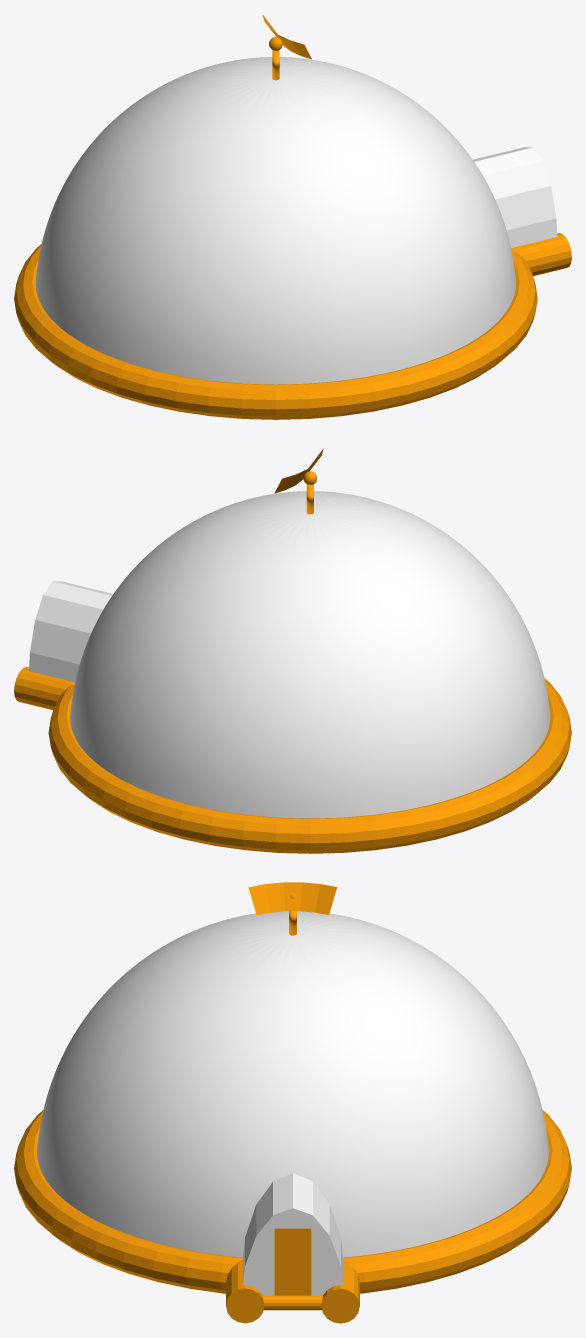
The model's file is Space_House.fbx.
3 renders of one model, top to bottom at view 1: azimuth 30°, elevation 25°; view 2: azimuth 150°, elevation 25°; view 3: azimuth 270°, elevation 25°, orthographic. The views are drawn at different scales.
Visible parts, largest first — view 1: Sphere, Torus, Cylinder, Cylinder.002; view 2: Sphere, Torus, Cylinder, Cylinder.003; view 3: Sphere, Torus, Cylinder, Plane.001, Plane.002, Cylinder.003, Cylinder.002, Cylinder.004.
Boxes of the visible parts, x1,y1,x2,y2 form: Sphere: [35, 57, 516, 384]; Torus: [14, 244, 537, 419]; Cylinder: [473, 147, 557, 247]; Cylinder.002: [511, 233, 571, 276]; Sphere: [70, 491, 550, 818]; Torus: [48, 678, 571, 853]; Cylinder: [29, 581, 112, 682]; Cylinder.003: [14, 667, 74, 710]; Sphere: [37, 911, 548, 1257]; Torus: [14, 1110, 571, 1293]; Cylinder: [243, 1173, 342, 1295]; Plane.001: [274, 1228, 311, 1295]; Plane.002: [248, 882, 337, 915]; Cylinder.003: [321, 1257, 359, 1323]; Cylinder.002: [226, 1257, 264, 1323]; Cylinder.004: [263, 1295, 322, 1310].
Bounding box in the file's own units: 466 × 257 × 430.
